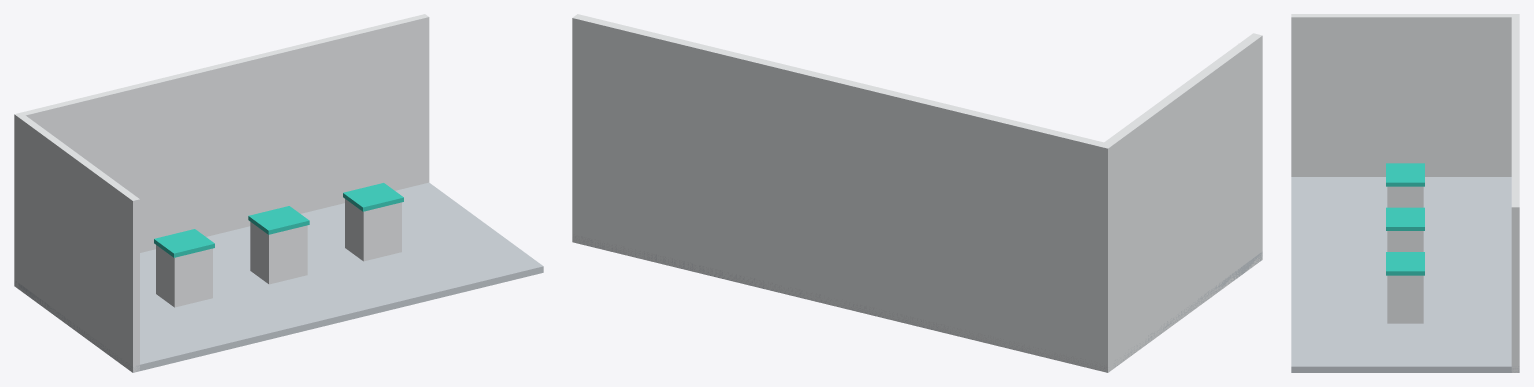
The picture shows the model from 3 angles, left to right: view 1: azimuth 30°, elevation 25°; view 2: azimuth 150°, elevation 25°; view 3: azimuth 270°, elevation 25°; orthographic projection. The views are drawn at different scales.
Parts seen in each view (by area): view 1: Exhibition Booth Concept; view 2: Exhibition Booth Concept; view 3: Exhibition Booth Concept.
Part boxes in pixels (x1,y1,x2,y2): Exhibition Booth Concept: (14, 14, 543, 372); Exhibition Booth Concept: (572, 14, 1262, 372); Exhibition Booth Concept: (1291, 14, 1519, 372).
Bounding box in the file's own units: 8 × 3.2 × 4.
